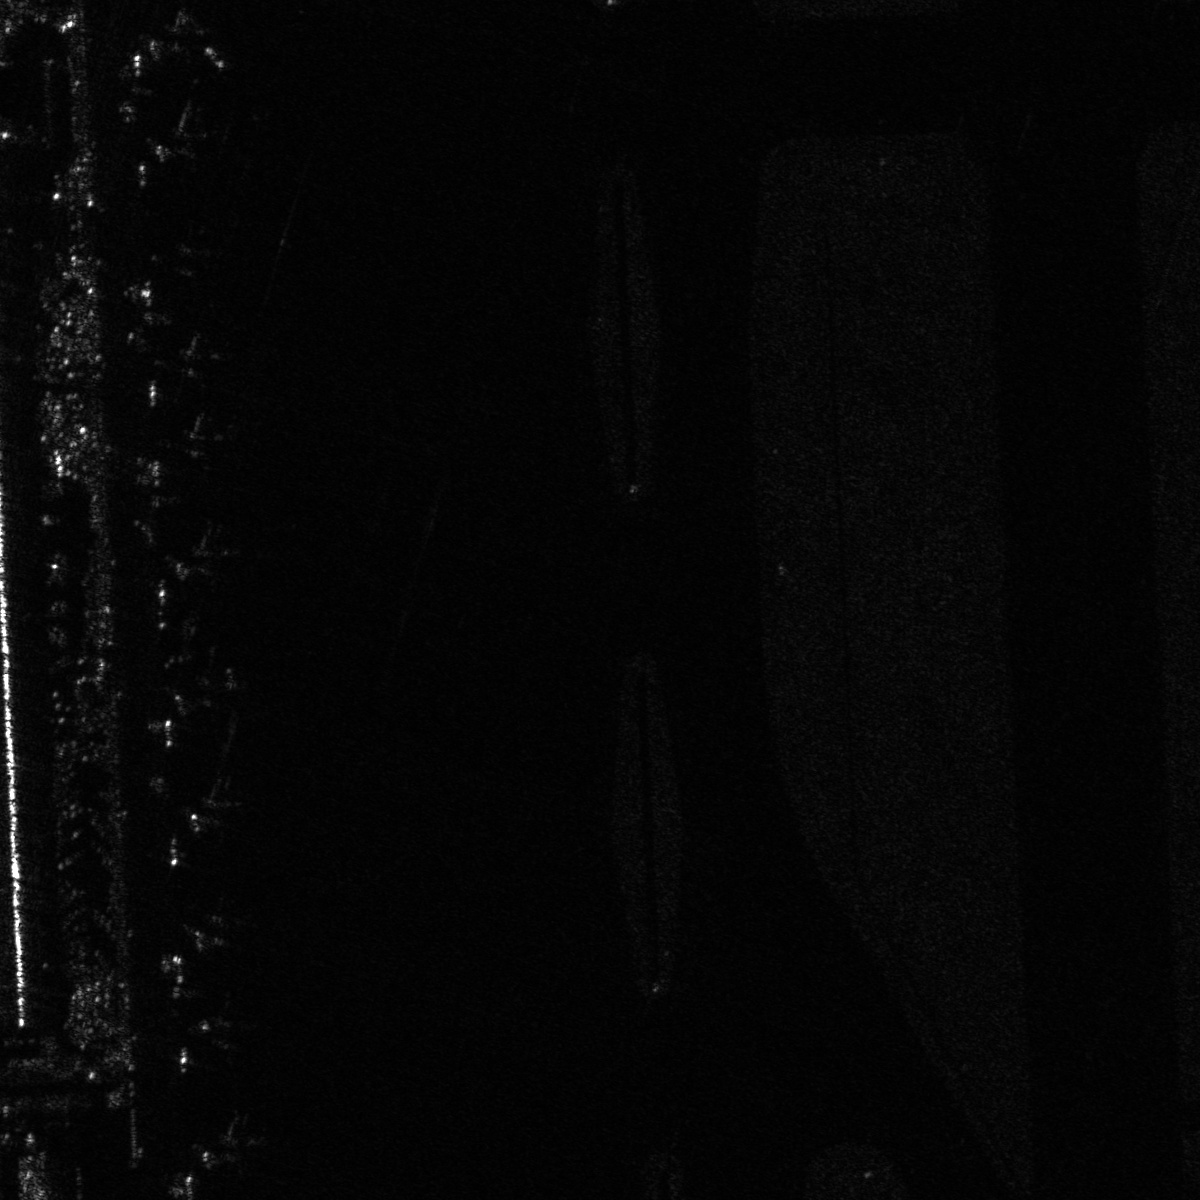A220: (173, 646, 253, 718), (166, 520, 242, 588)
A320/321: (184, 1111, 270, 1174), (155, 405, 235, 467), (151, 95, 219, 166), (152, 326, 227, 385)
other: (175, 771, 255, 844), (184, 998, 262, 1058), (173, 903, 241, 962)
